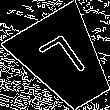L_SE: (36, 31, 94, 90)
